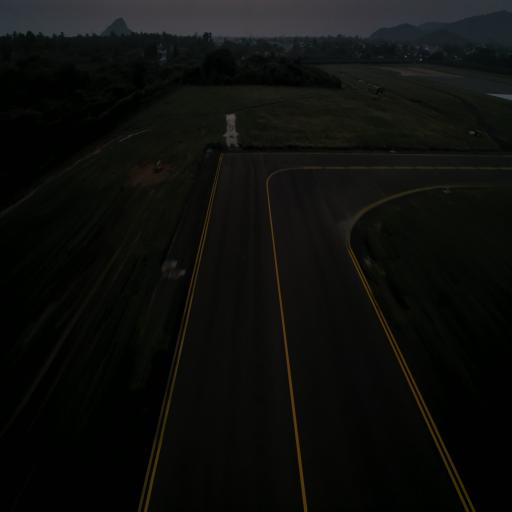on: (169, 255, 175, 267), (366, 253, 372, 262)
